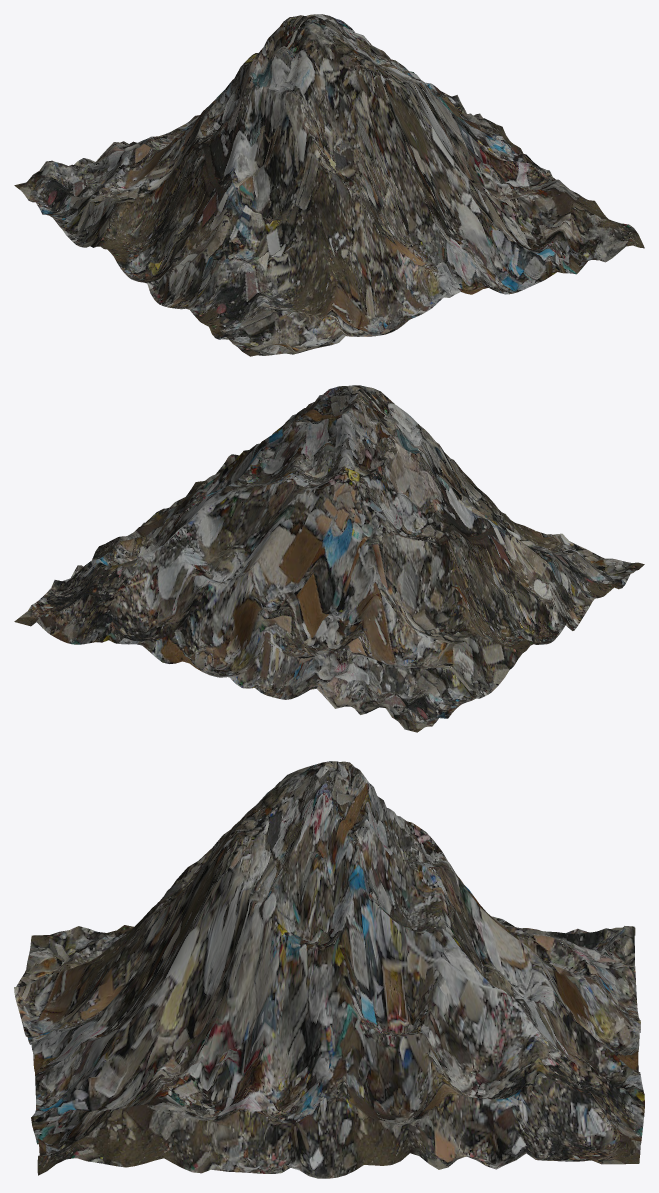
Rendered from trash mount.fbx.
The picture shows the model from 3 angles, top to bottom: view 1: azimuth 30°, elevation 25°; view 2: azimuth 150°, elevation 25°; view 3: azimuth 270°, elevation 25°; orthographic projection. The views are drawn at different scales.
Visible parts, largest first — view 1: Plane; view 2: Plane; view 3: Plane.
Boxes of the visible parts, bbox=[...] form: Plane: bbox=[14, 14, 644, 356]; Plane: bbox=[14, 385, 644, 732]; Plane: bbox=[14, 761, 644, 1178].
Size of the model in its own units: 1346 by 702 by 1361.
